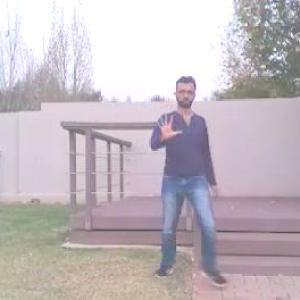follow_hand: (152, 107, 186, 143)
